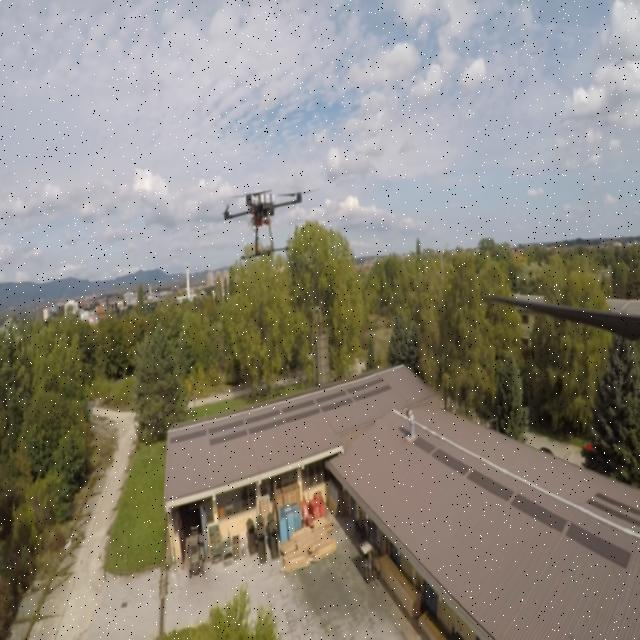UAV: (221, 180, 321, 263)
